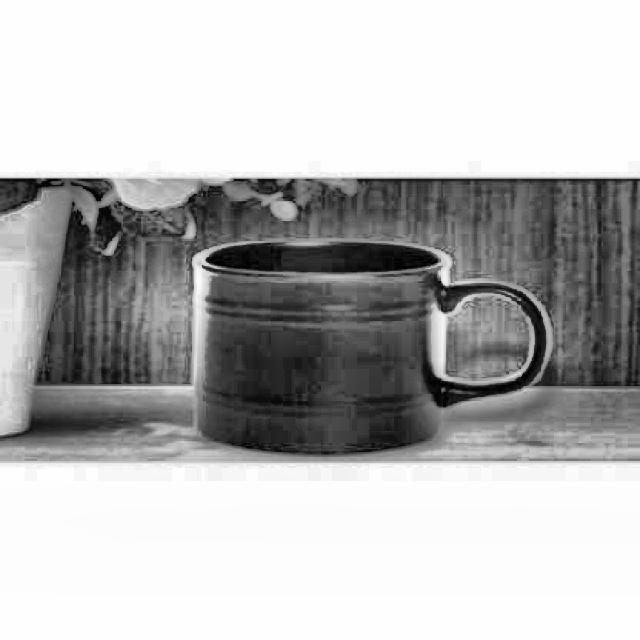Mug: (191, 238, 552, 456)
